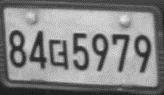4: (28, 29, 47, 69)
5: (71, 31, 90, 71)
7: (110, 33, 130, 73)
8: (8, 29, 27, 67)
9: (90, 31, 109, 72), (133, 33, 151, 73)
더: (48, 38, 69, 69)
